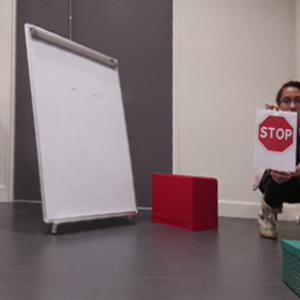stop: (257, 115, 294, 153)
